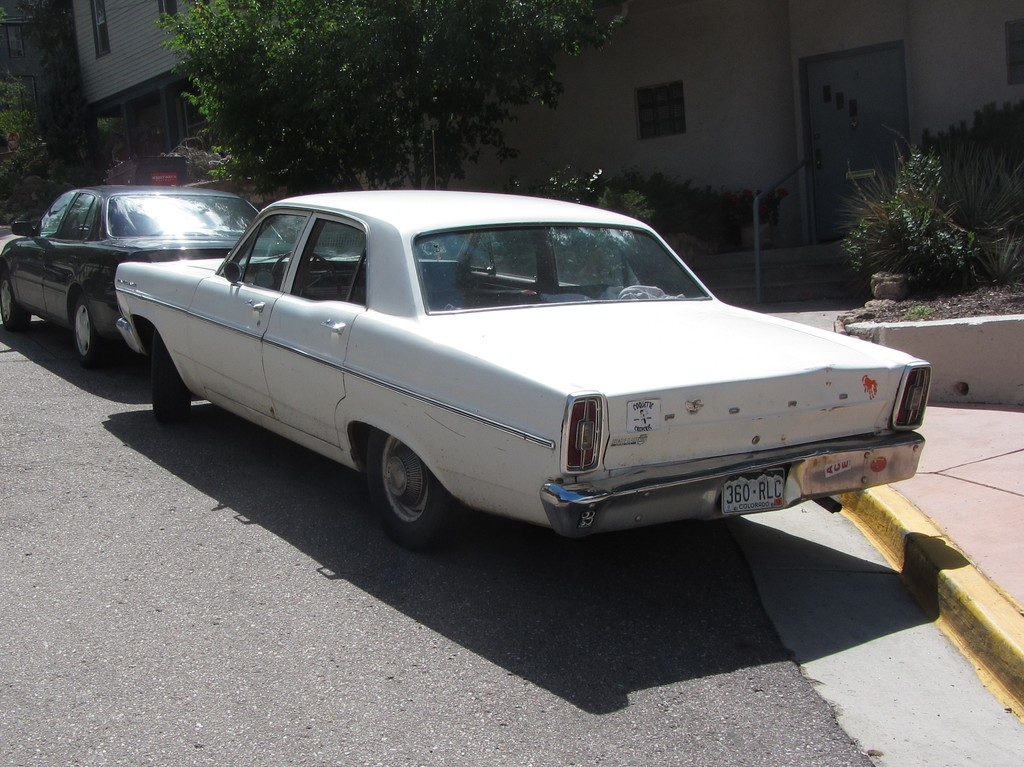Car: (118, 181, 925, 553), (0, 173, 337, 374)
